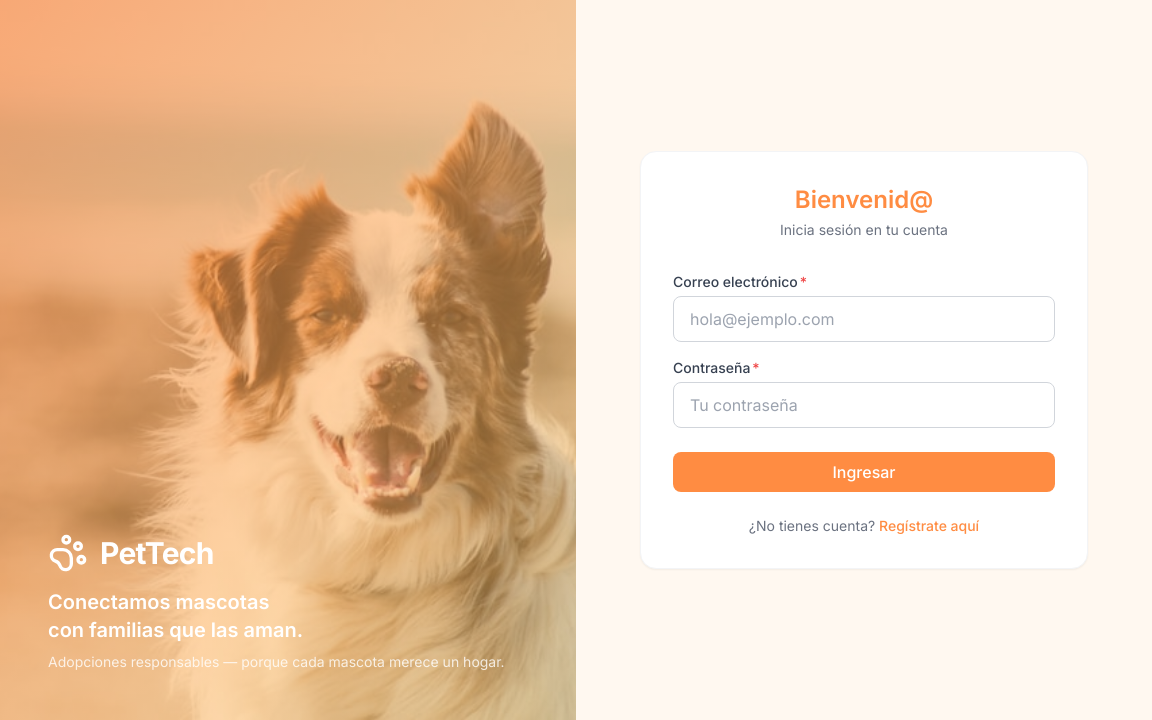
it: LoginPage — validación del campo correo › shows error when email is too short
This screenshot has width=1152, height=720.
Type "a@b" into the field labelled "Correo electrónico*".
click(864, 319); type("a@b")  # box left=673, top=296, right=1055, bottom=342
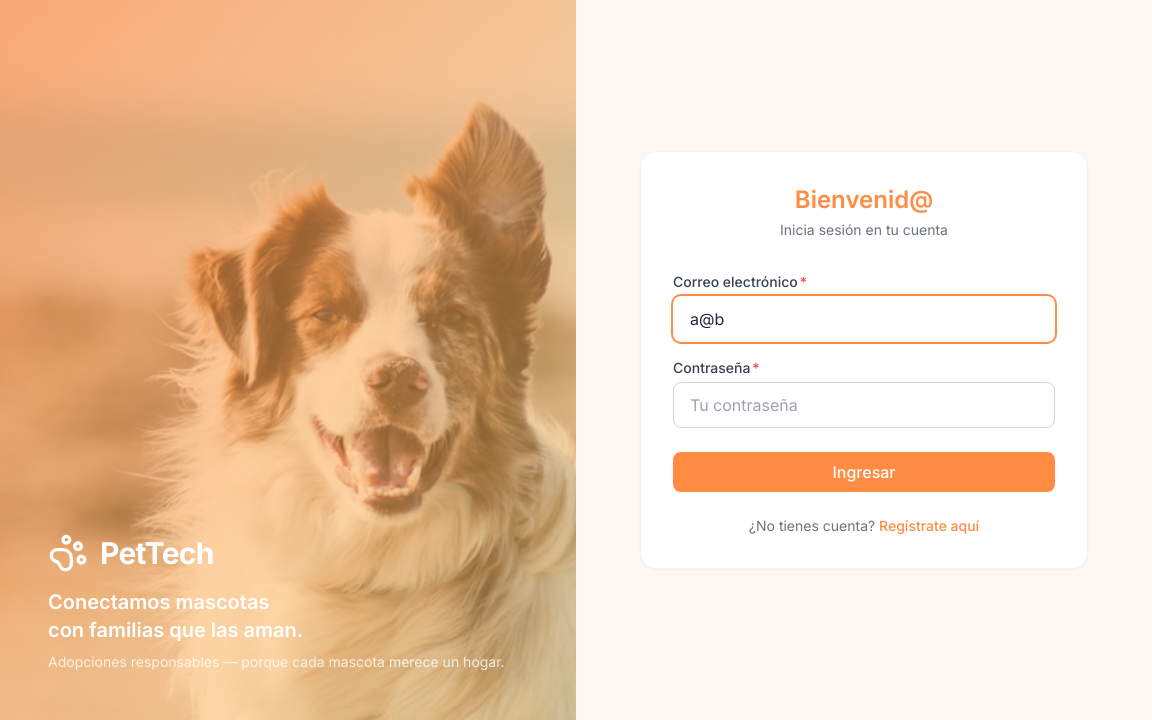
Press Tab
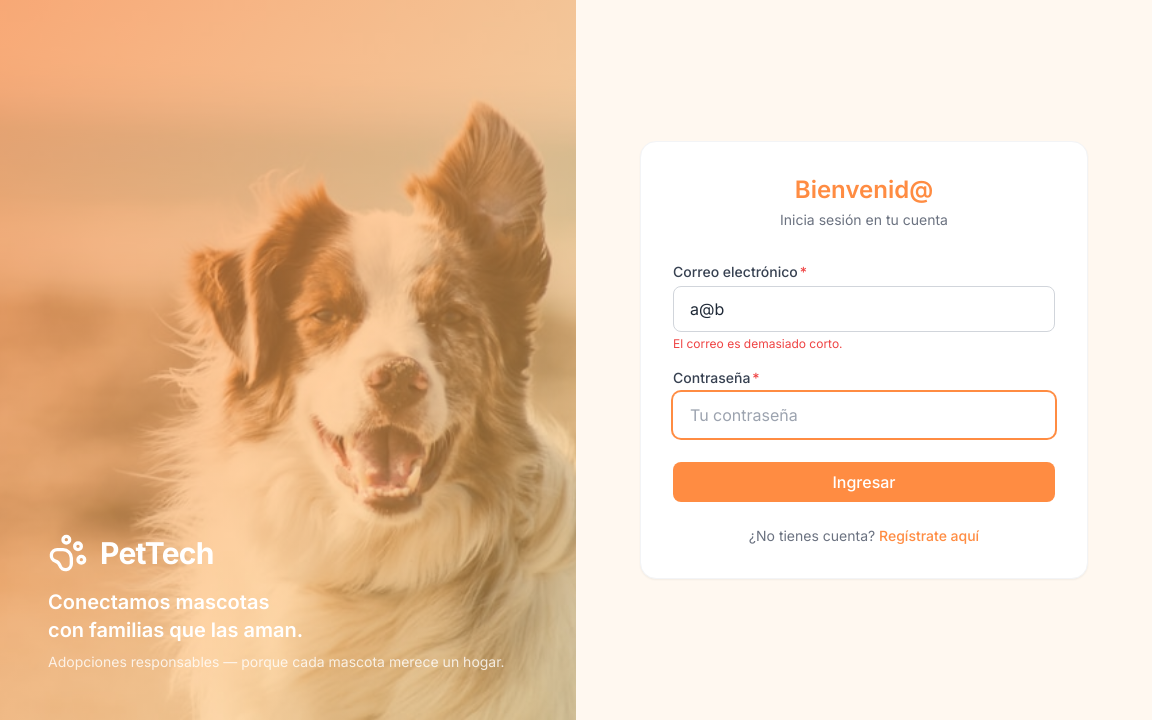
Expected: the text "El correo es demasiado corto." is shown, left=673, top=336, right=842, bottom=351
